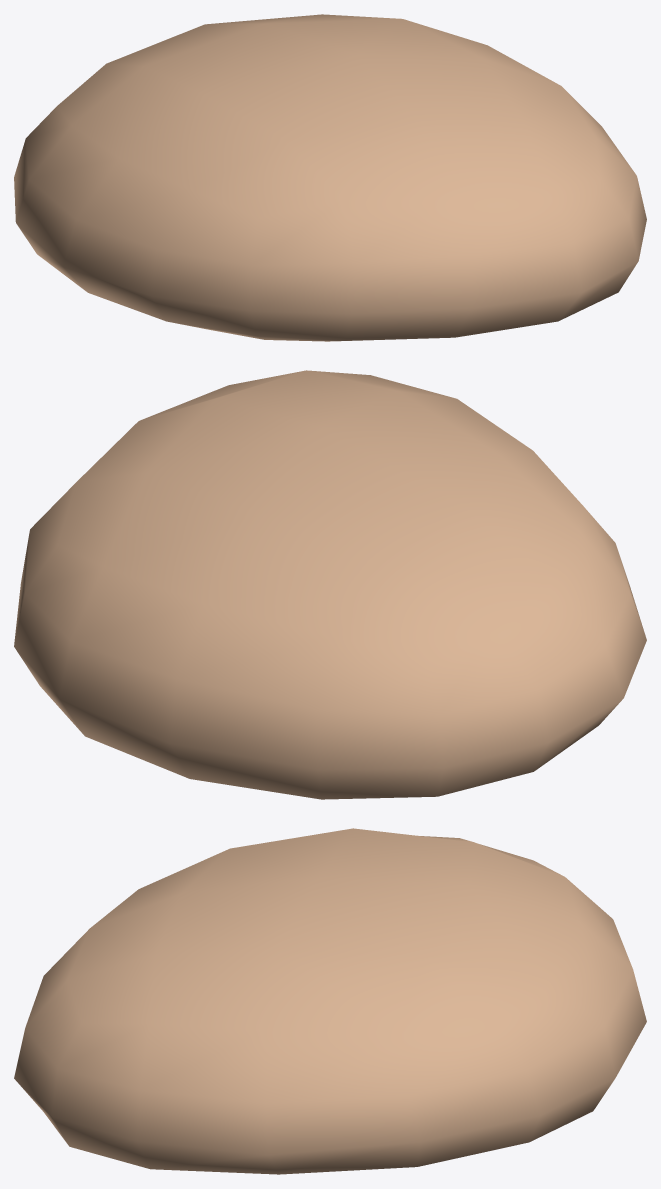
The model's file is Pebble_2c.gltf.
3 renders of one model, top to bottom at view 1: azimuth 30°, elevation 25°; view 2: azimuth 150°, elevation 25°; view 3: azimuth 270°, elevation 25°, orthographic. The views are drawn at different scales.
Parts seen in each view (by area): view 1: Pebble_2c; view 2: Pebble_2c; view 3: Pebble_2c.
Part boxes in pixels (<box>): Pebble_2c: <box>14,14,646,341</box>; Pebble_2c: <box>14,370,646,799</box>; Pebble_2c: <box>14,828,646,1174</box>.
Bounding box in the file's own units: 38.8 × 16.23 × 39.98.
Materials: 1 (1 with a texture image).
